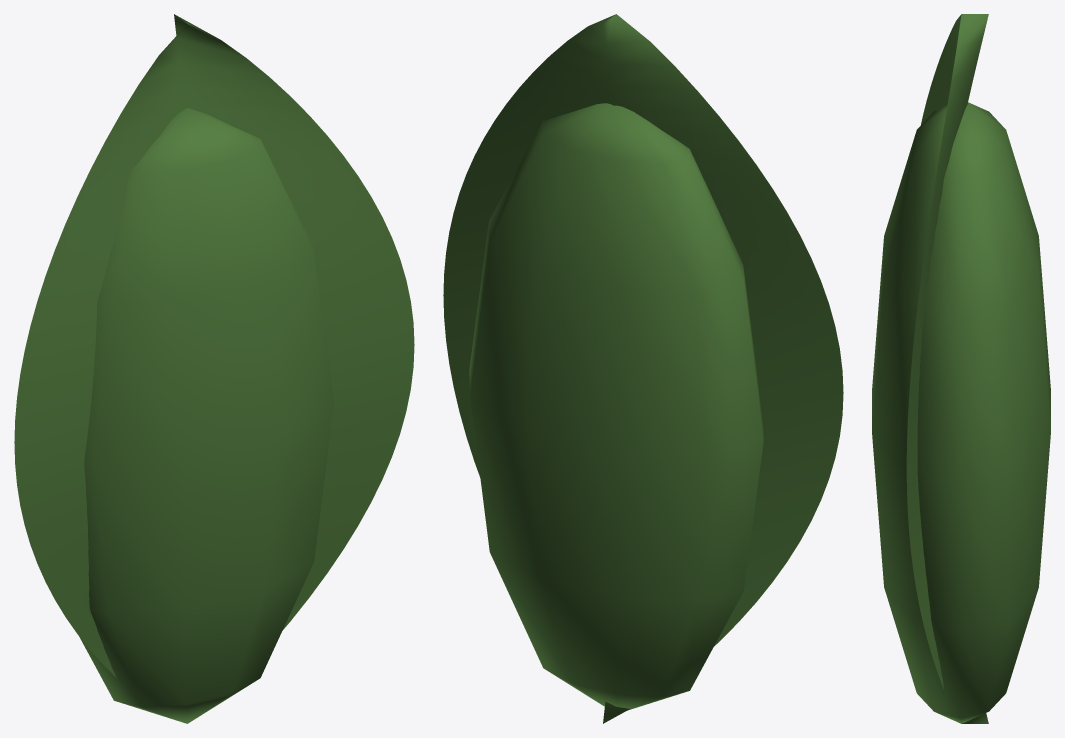
Rendered from leaf-succulent.glb.
The picture shows the model from 3 angles, left to right: view 1: azimuth 30°, elevation 25°; view 2: azimuth 150°, elevation 25°; view 3: azimuth 270°, elevation 25°; orthographic projection.
Visible parts, largest first — view 1: tint-surface; view 2: tint-surface; view 3: tint-surface.
Part boxes in pixels (left/top/right/bottom): tint-surface: left=14, top=14, right=414, bottom=723; tint-surface: left=443, top=14, right=843, bottom=723; tint-surface: left=872, top=14, right=1050, bottom=723.
Bounding box in the file's own units: 0.598 × 1 × 0.2283.
